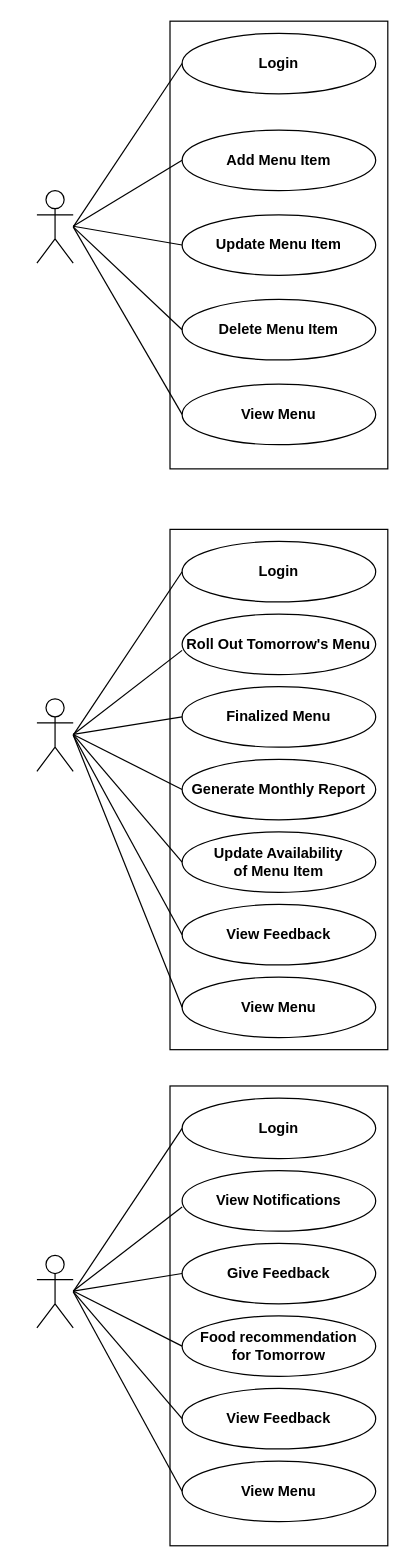
The diagram is 409 pixels wide and 1567 high, and some of its shapes have lost their labels. Each missing label, with the centre of its shape:
"Admin" goes at [54,226].
"Chef" goes at [54,734].
"Employee" goes at [54,1291].
